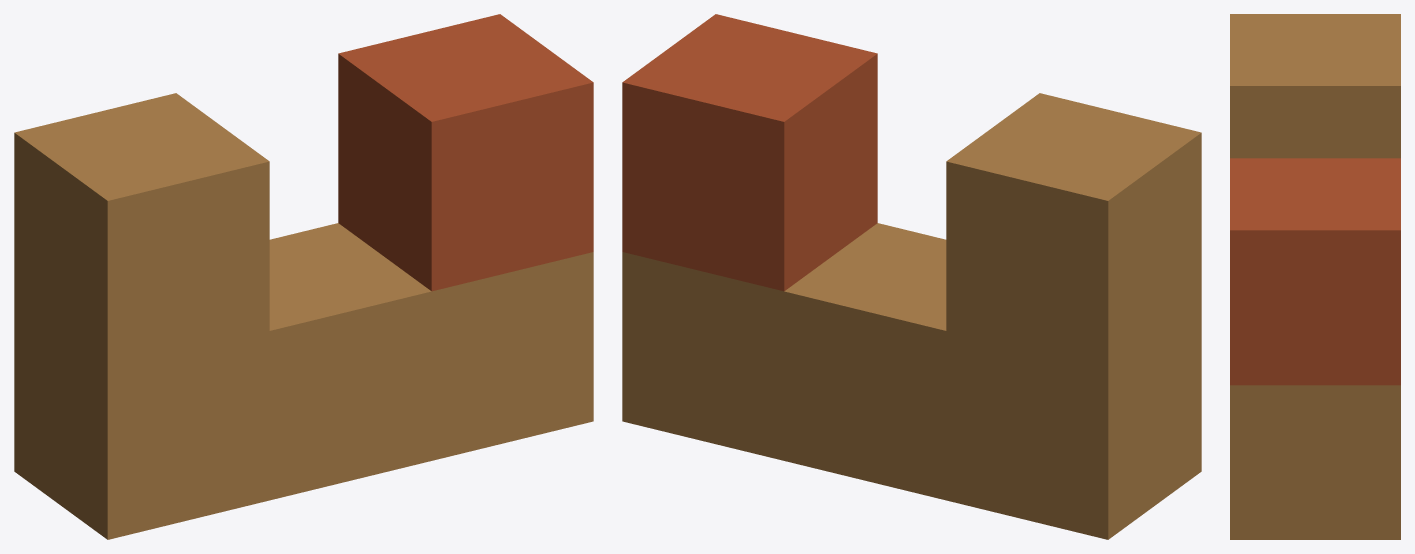
Rendered from round_357_h_magnum.glb.
3 renders of one model, left to right at view 1: azimuth 30°, elevation 25°; view 2: azimuth 150°, elevation 25°; view 3: azimuth 270°, elevation 25°, orthographic. The views are drawn at different scales.
Parts seen in each view (by area): view 1: cartridge:cartridge-model; view 2: cartridge:cartridge-model; view 3: cartridge:cartridge-model.
Part boxes in pixels (x1,y1,x2,y2): cartridge:cartridge-model: (14,14,593,539); cartridge:cartridge-model: (622,14,1201,539); cartridge:cartridge-model: (1230,14,1400,539).
Size of the model in its own units: 0.03 by 0.02 by 0.01.
